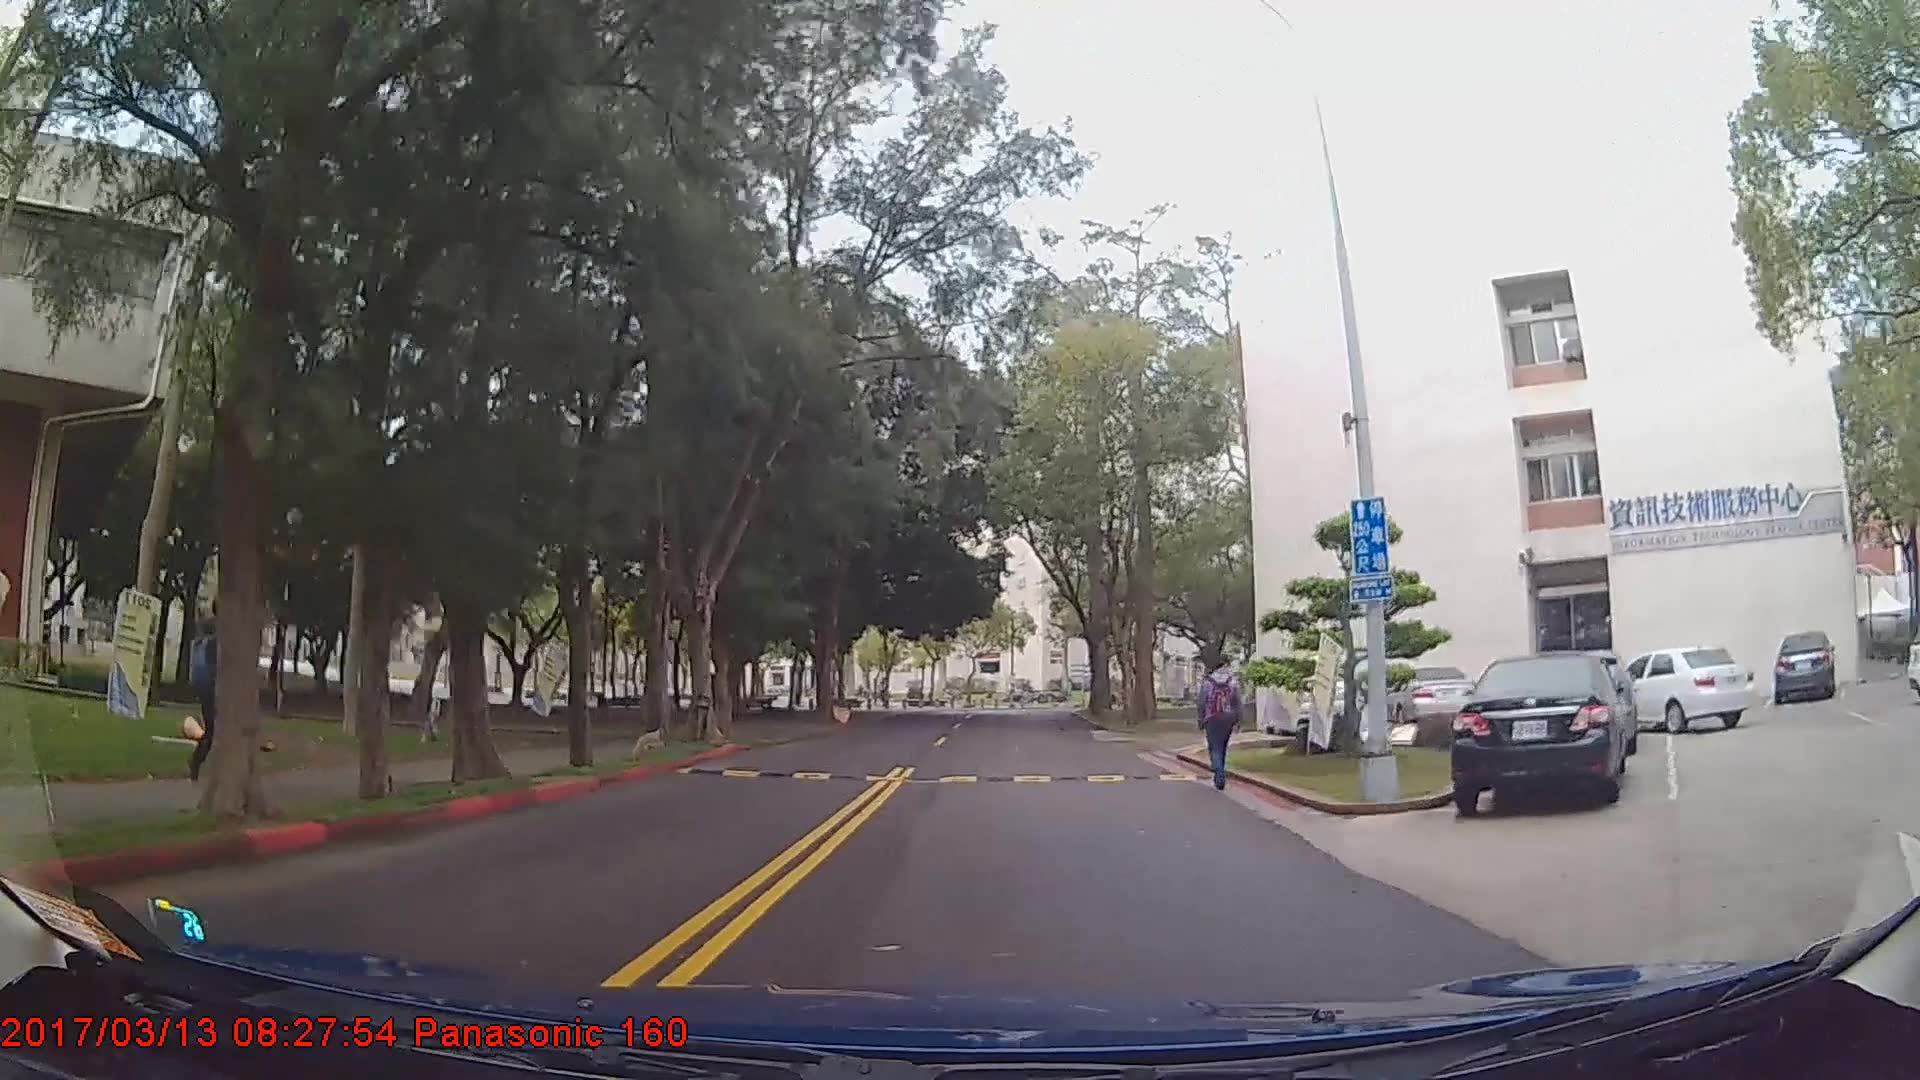pedestrian: (1190, 656, 1250, 795)
vehicle: (1453, 648, 1630, 817), (1617, 646, 1754, 734), (1367, 662, 1475, 727), (1773, 631, 1834, 706)
